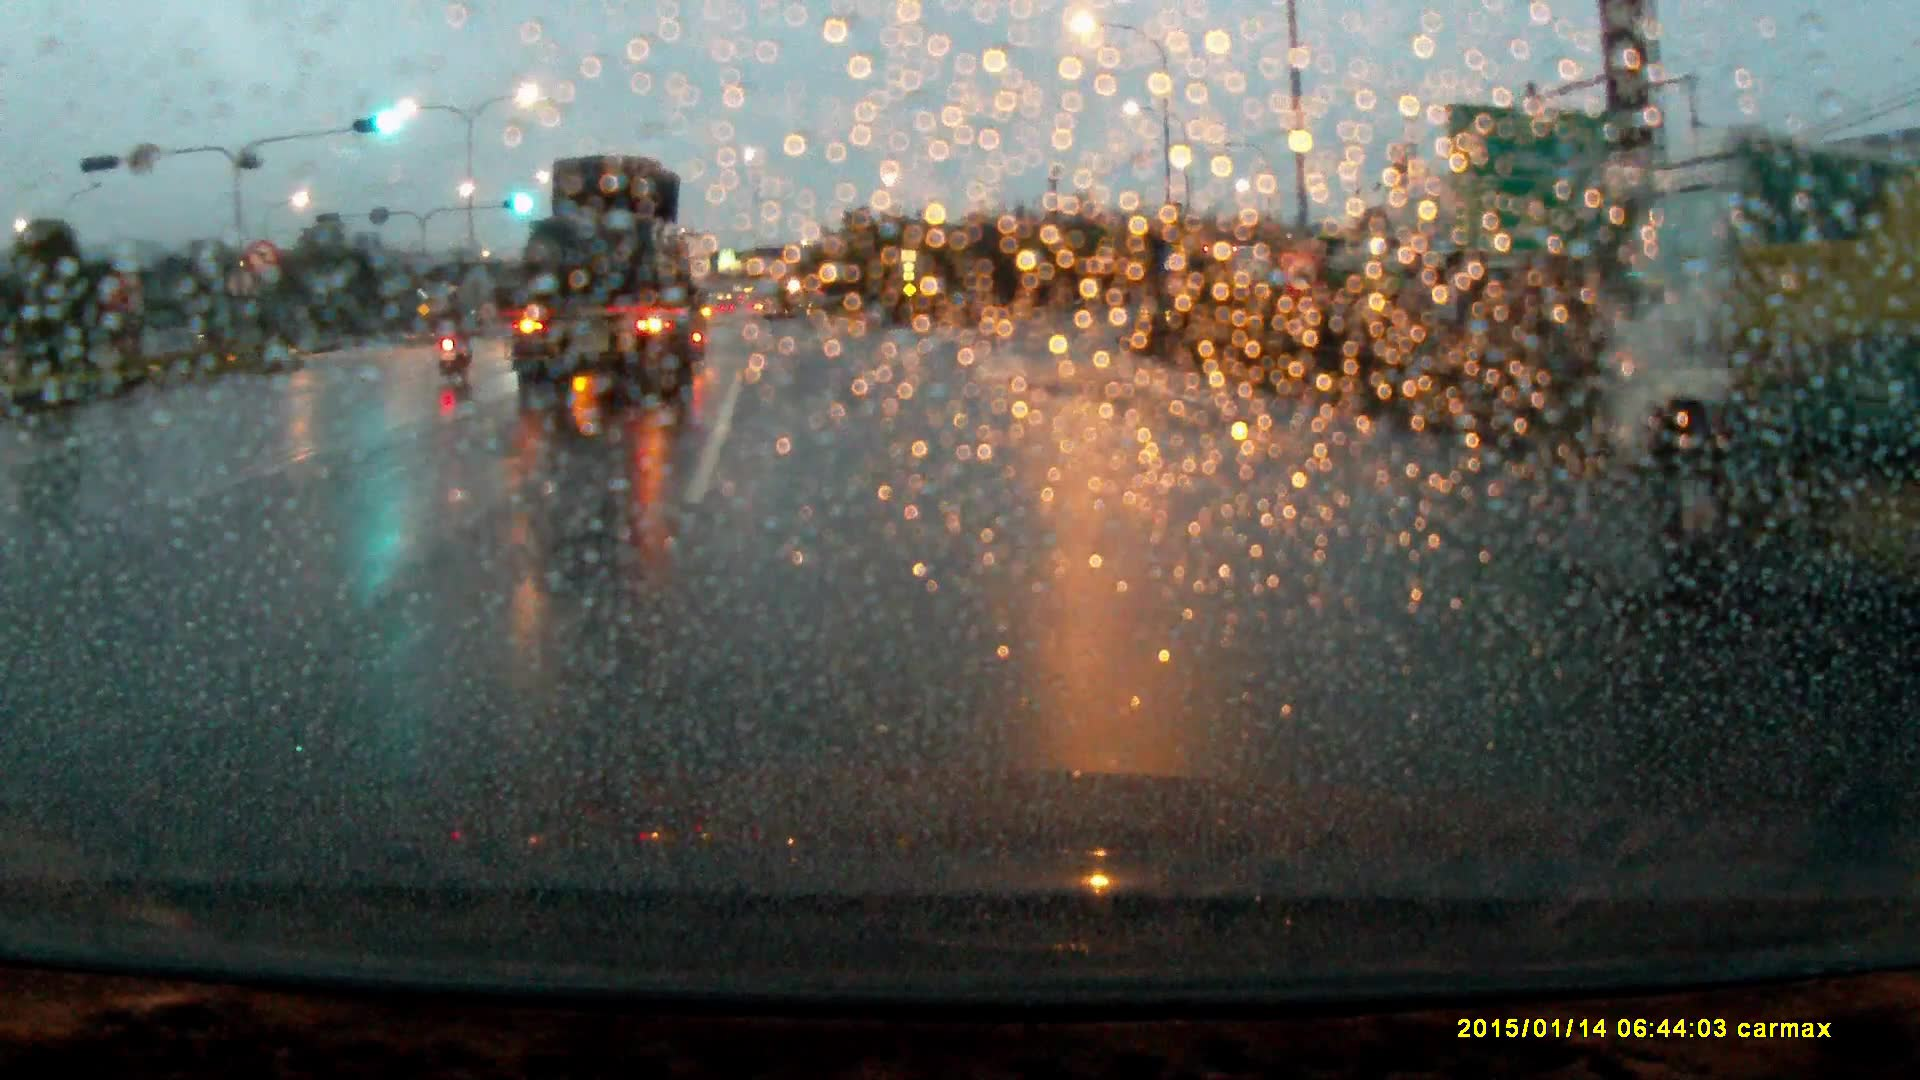rider: (423, 281, 475, 391)
vehicle: (1610, 129, 1920, 574), (506, 150, 709, 408)
